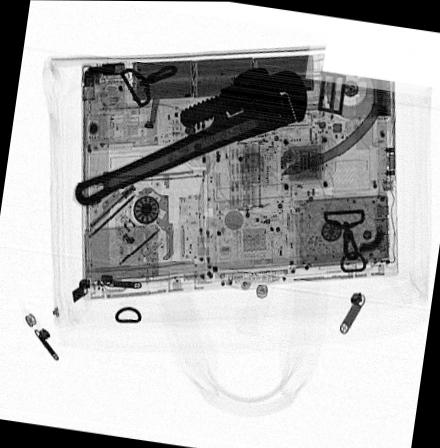Wrench: (73, 65, 307, 208)
